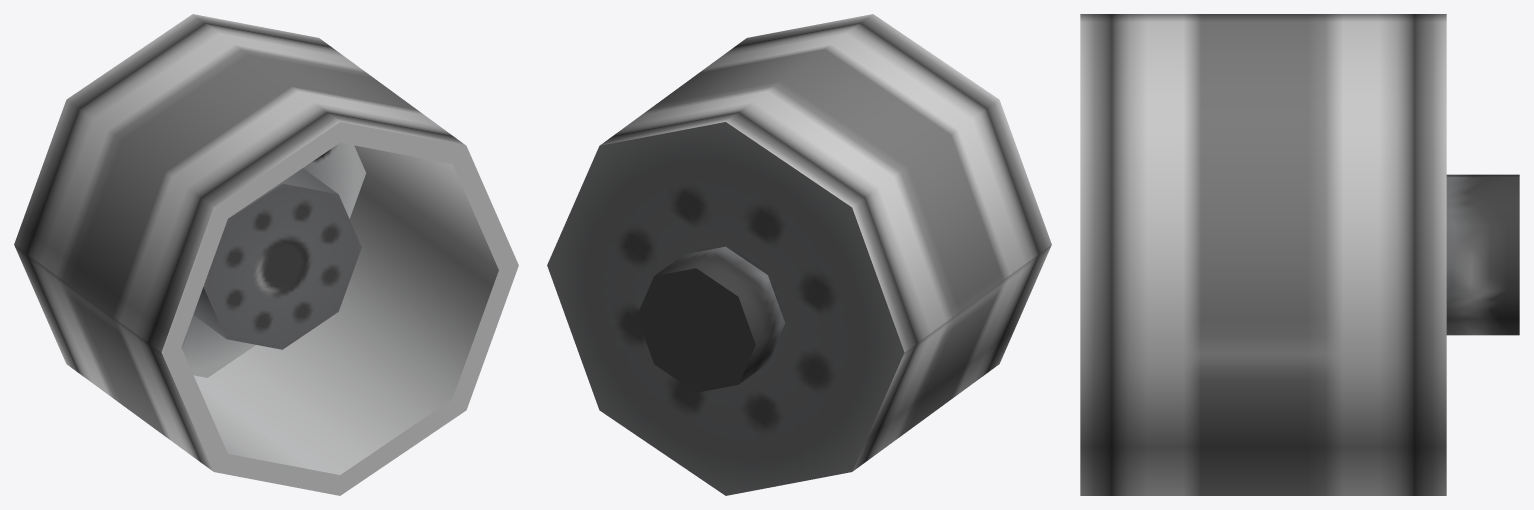
File: robotwheel.obj
3 views of the same model, side by side, from view 1: azimuth 30°, elevation 25°; view 2: azimuth 150°, elevation 25°; view 3: azimuth 270°, elevation 25° (orthographic). The views are drawn at different scales.
Visible parts, largest first — view 1: cylinder5_sep9; view 2: cylinder5_sep9; view 3: cylinder5_sep9.
Part boxes in pixels (x1,y1,x2,y2): cylinder5_sep9: [14, 14, 518, 495]; cylinder5_sep9: [547, 14, 1051, 495]; cylinder5_sep9: [1080, 14, 1519, 495].
Size of the model in its own units: 0.35 by 0.35 by 0.3.
Materials: 1 (1 with a texture image).
